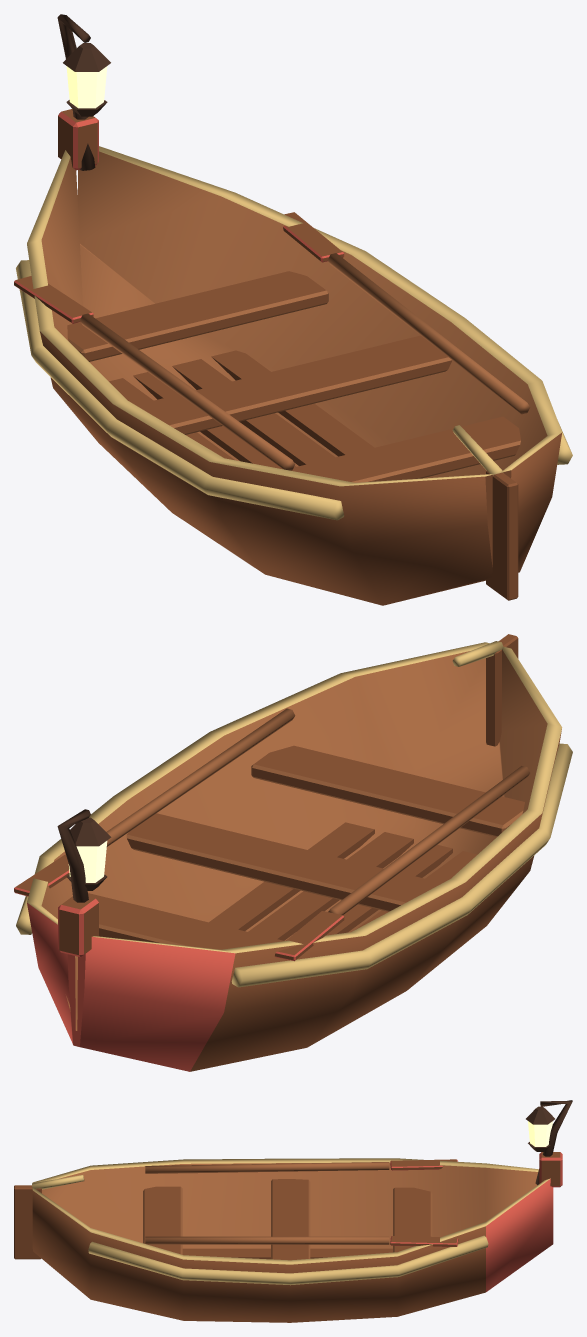
File: pixar_boat.glb
3 renders of one model, top to bottom at view 1: azimuth 30°, elevation 25°; view 2: azimuth 150°, elevation 25°; view 3: azimuth 270°, elevation 25°, orthographic. The views are drawn at different scales.
Parts seen in each view (by area): view 1: pixar_boat; view 2: pixar_boat; view 3: pixar_boat.
Part boxes in pixels (x1,y1,x2,y2): pixar_boat: (14,14,572,605); pixar_boat: (14,634,572,1071); pixar_boat: (14,1100,572,1322).
Size of the model in its own units: 2.24 by 1.77 by 4.81.
